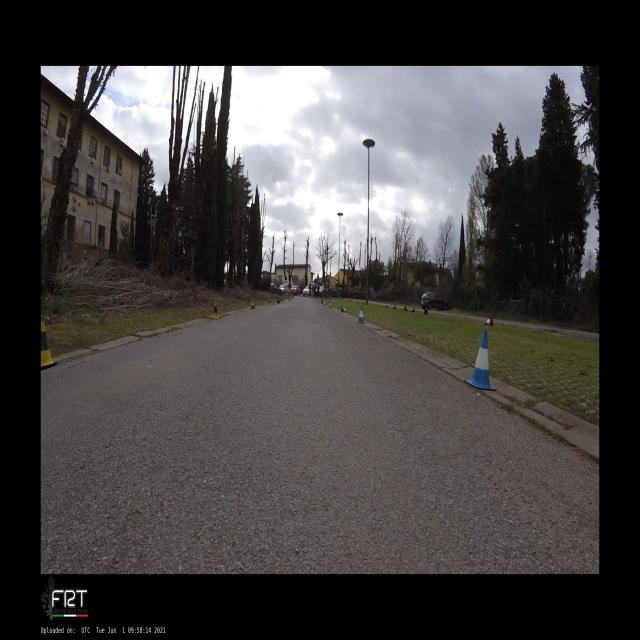blue_cone: (464, 330, 497, 390), (355, 306, 365, 324), (341, 305, 347, 313), (329, 301, 331, 308), (324, 300, 325, 306)
orange_cone: (484, 315, 493, 326)
unknown_cone: (410, 307, 416, 313), (424, 309, 429, 315), (404, 306, 408, 312), (277, 300, 280, 304), (394, 305, 396, 309)
yellow_cone: (41, 320, 59, 368), (211, 302, 220, 319), (249, 301, 255, 310), (268, 298, 272, 305)
